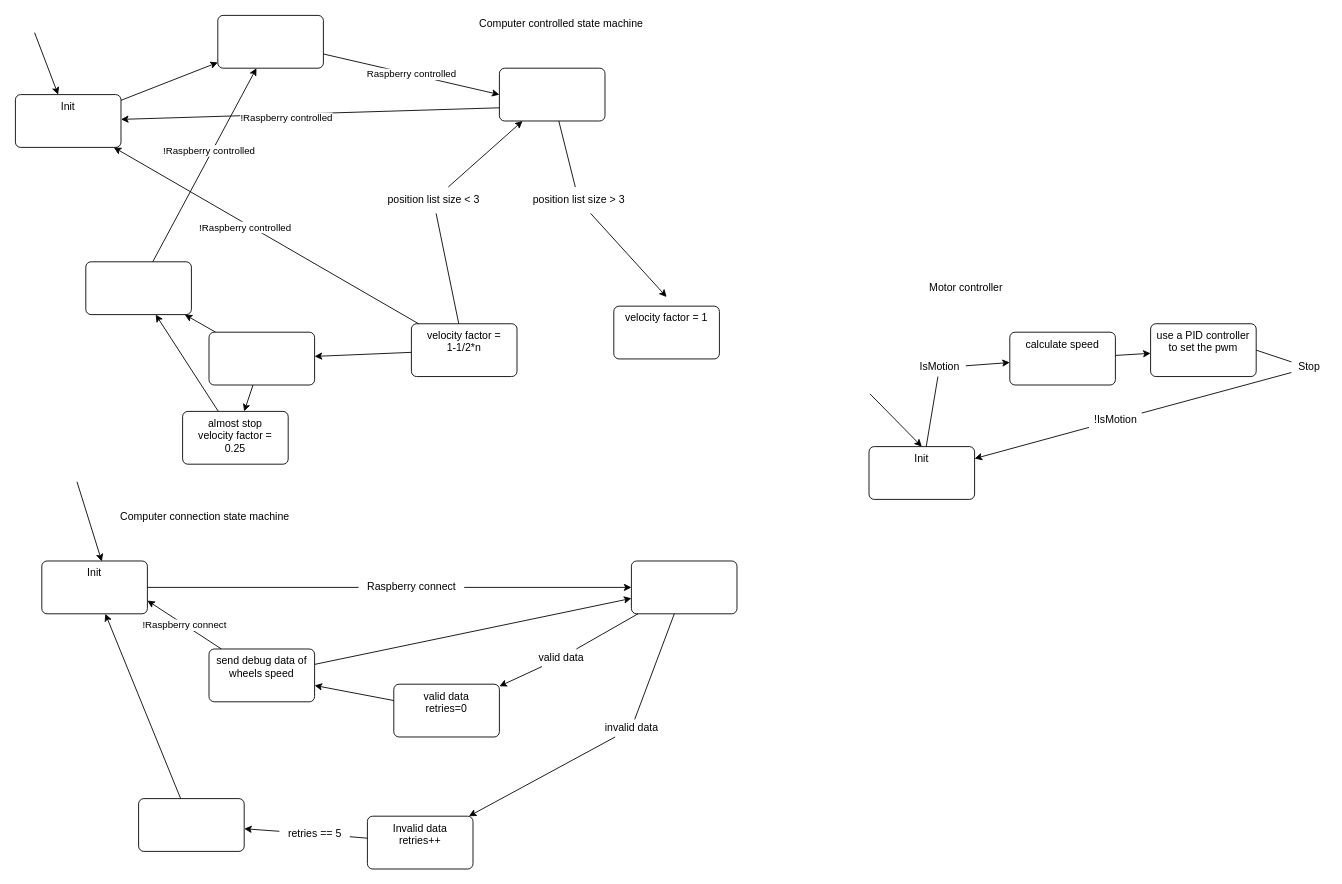
This 1342x884 diagram has some shape labels left out. Each missing label, with the centre of its shape:
"Check positions list" goes at [552,94].
"Disconnect Raspberry connect = 0" goes at [191,824].
"Estimate pose" goes at [270,41].
"Feed motor controllers" goes at [138,288].
"Get data" goes at [684,587].
"Motion controller" goes at [261,358].
